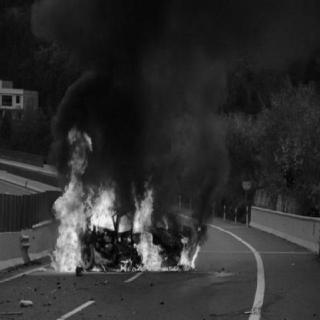Fire: (50, 116, 204, 277)
